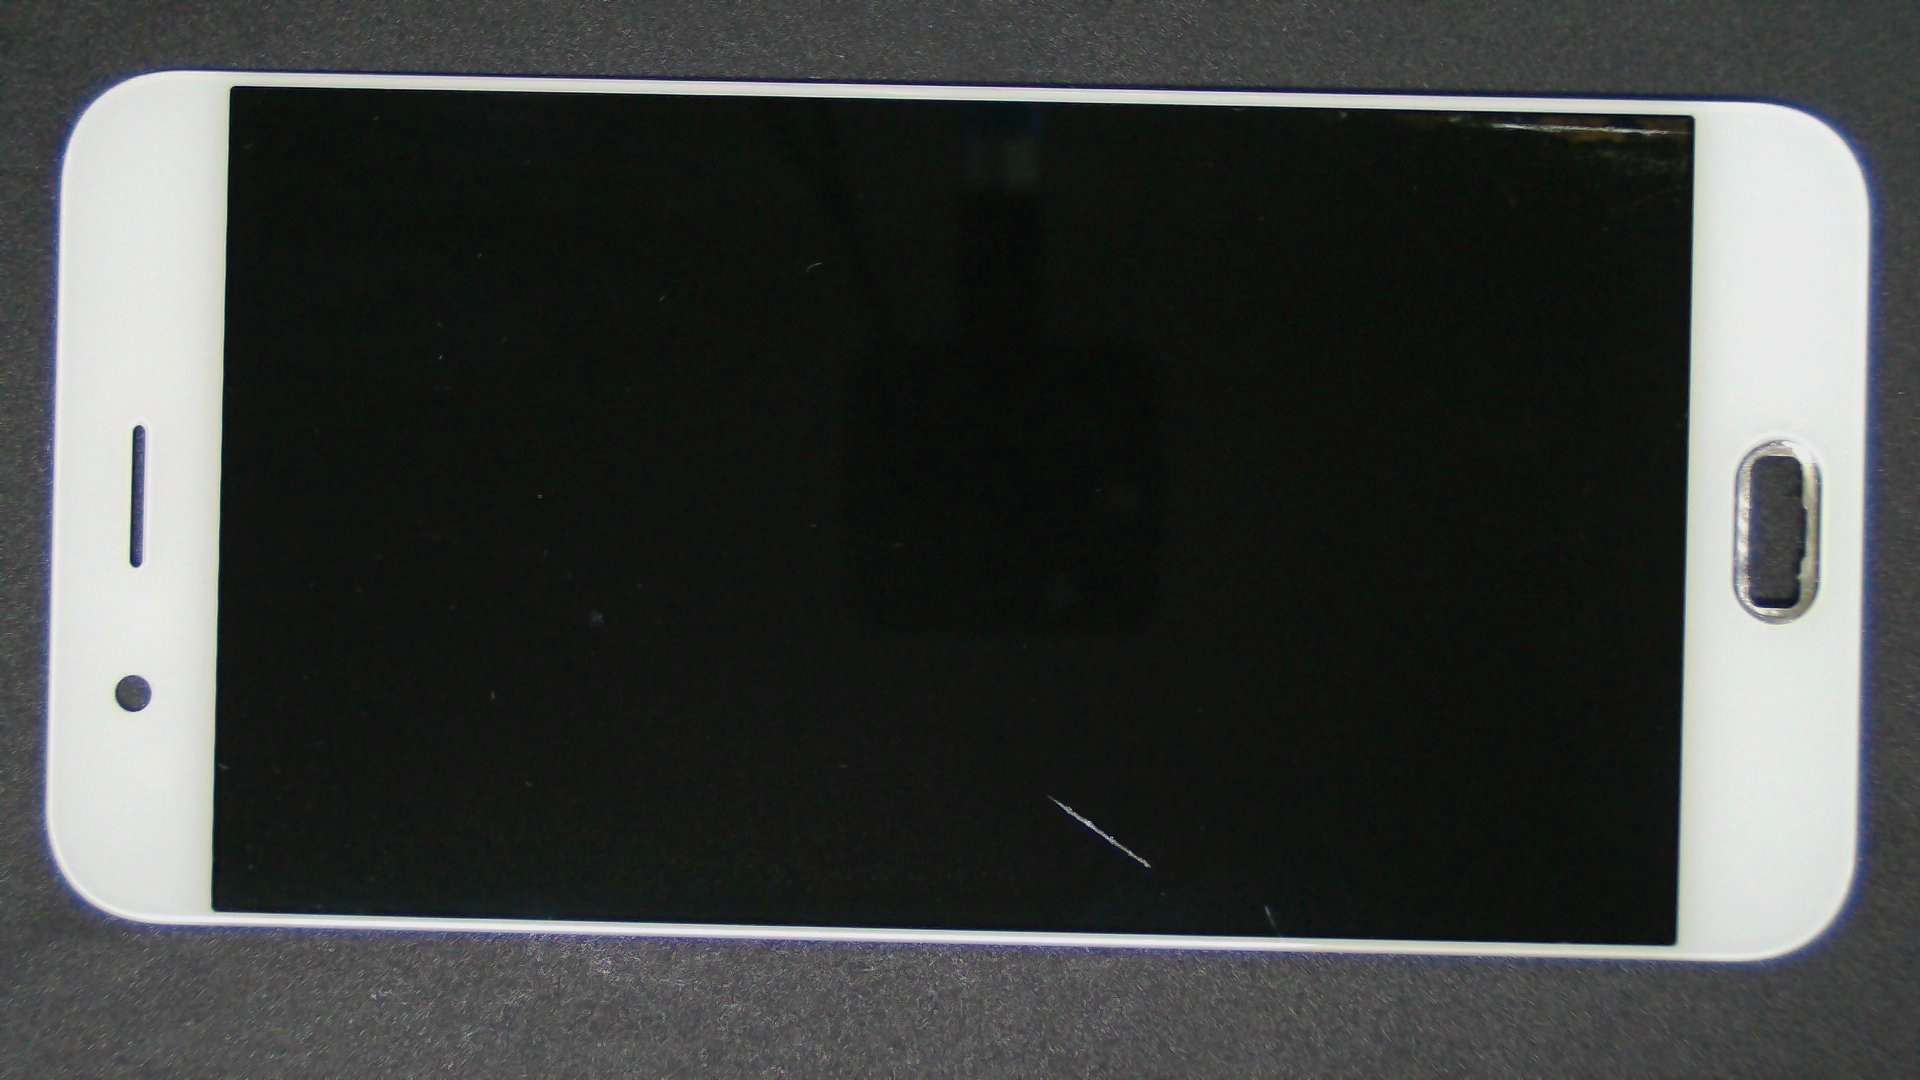oil: (524, 396, 1571, 1080), (741, 58, 1920, 186)
